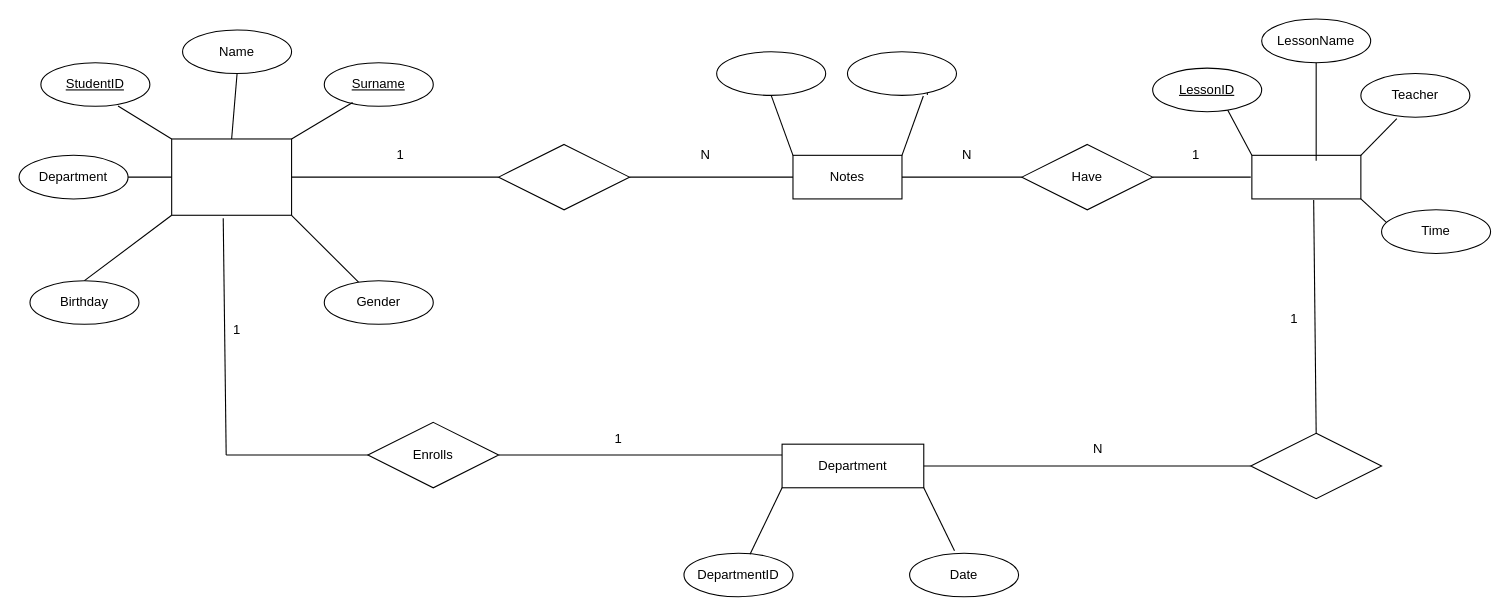
Image size: 1510x616. Some labels were removed from this diagram. Each missing label, with the box of its shape:
Available: (1250, 432, 1382, 499)
Commants: (846, 51, 956, 95)
Lessons: (1251, 154, 1361, 199)
Note: (716, 51, 826, 95)
Student: (171, 138, 292, 215)
Takes: (498, 143, 629, 210)
